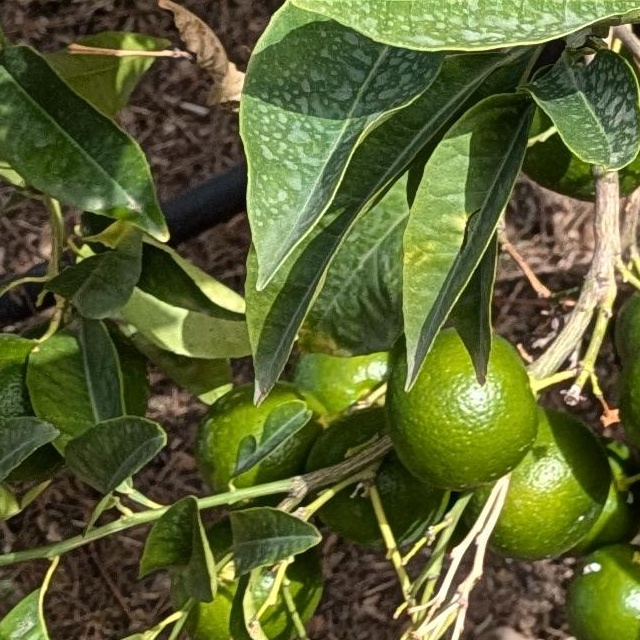orange: (397, 325, 531, 489), (450, 416, 606, 552), (176, 515, 334, 640), (197, 371, 323, 505), (573, 547, 640, 640), (606, 264, 640, 376), (635, 318, 640, 464)
